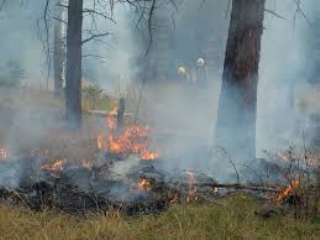fire: (99, 110, 163, 163), (277, 178, 298, 202)
smoke: (133, 10, 305, 155), (1, 7, 94, 159)
